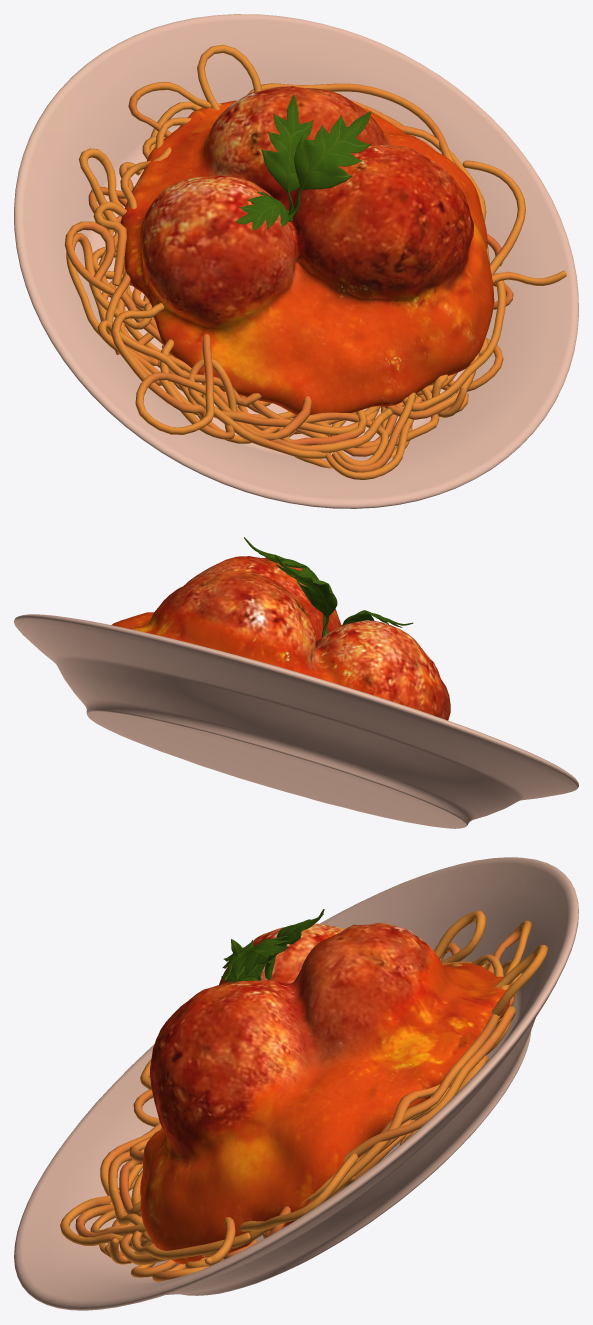
File: second_dish.glb
The picture shows the model from 3 angles, top to bottom: view 1: azimuth 30°, elevation 25°; view 2: azimuth 150°, elevation 25°; view 3: azimuth 270°, elevation 25°; orthographic projection. The views are drawn at different scales.
Parts seen in each view (by area): view 1: node_id30; view 2: node_id30; view 3: node_id30.
Part boxes in pixels (x1=…): node_id30: x1=14, y1=14, x2=578, y2=508; node_id30: x1=14, y1=537, x2=578, y2=828; node_id30: x1=14, y1=857, x2=578, y2=1310.
Size of the model in its own units: 0.3847 by 0.2224 by 0.3187.
1 material, 1 textured.
